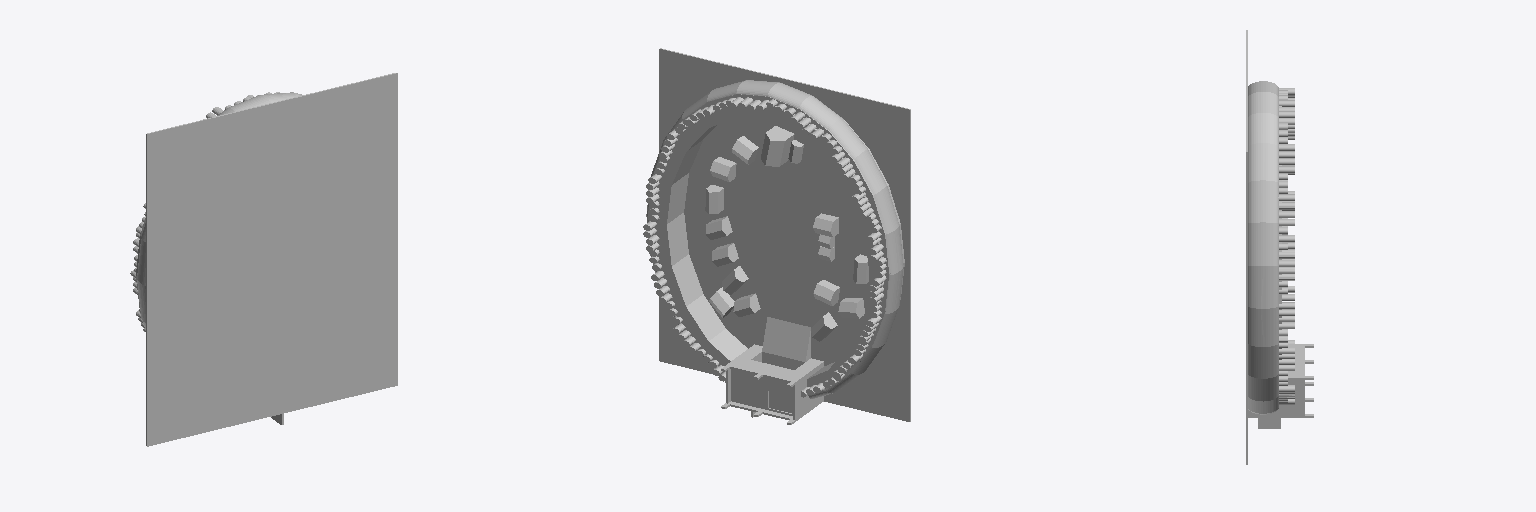
The model's file is Piotrówka.obj.
3 views of the same model, side by side, from view 1: azimuth 30°, elevation 25°; view 2: azimuth 150°, elevation 25°; view 3: azimuth 270°, elevation 25° (orthographic).
Visible parts, largest first — view 1: Piotrowka_osada; view 2: Piotrowka_osada; view 3: Piotrowka_osada.
Boxes of the visible parts, box(x1,y1,x2,y2) form: Piotrowka_osada: box(130, 73, 397, 446); Piotrowka_osada: box(643, 48, 910, 424); Piotrowka_osada: box(1246, 30, 1313, 464).
Size of the model in its own units: 0.0429 by 0.0537 by 0.0101.